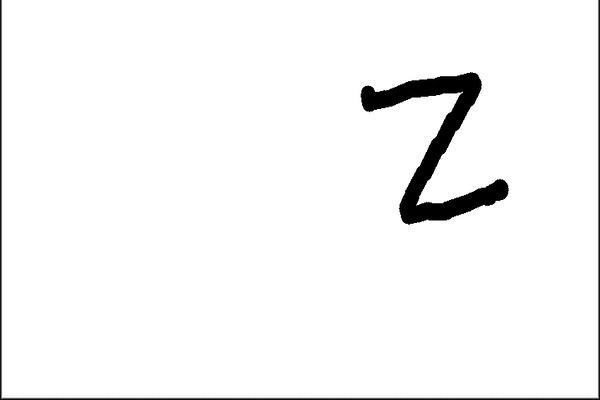Z: (350, 67, 515, 230)
